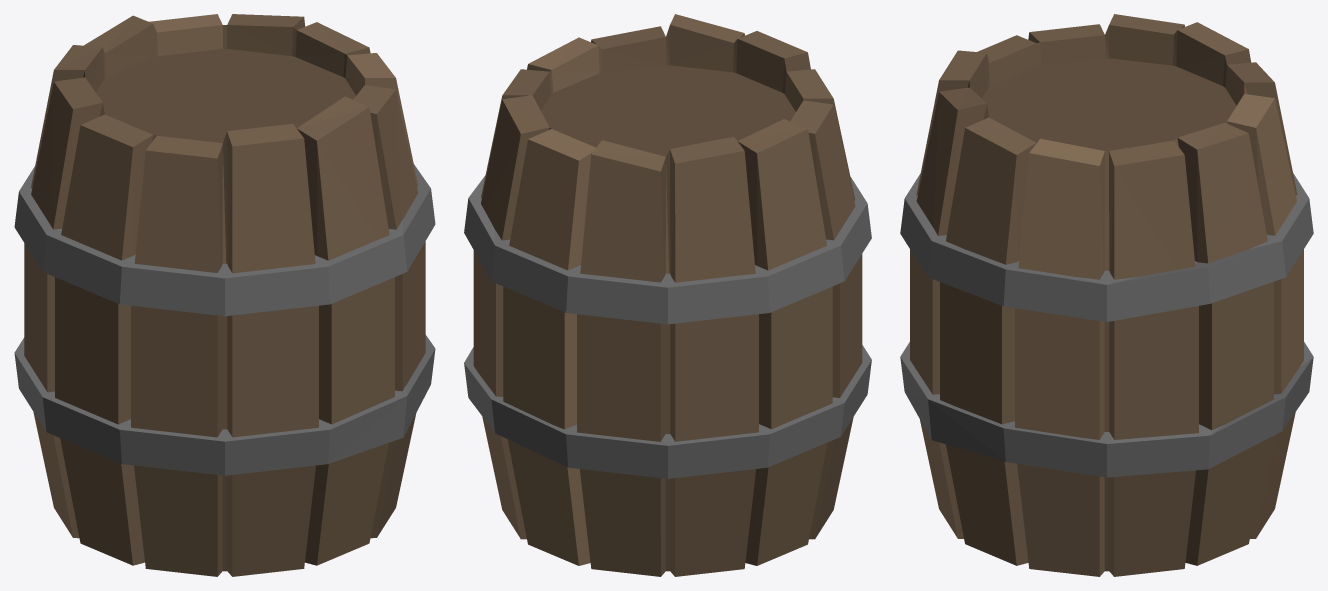
Rendered from barrel.fbx.
3 renders of one model, left to right at view 1: azimuth 30°, elevation 25°; view 2: azimuth 150°, elevation 25°; view 3: azimuth 270°, elevation 25°, orthographic. The views are drawn at different scales.
Parts seen in each view (by area): view 1: Cylinder.001; view 2: Cylinder.001; view 3: Cylinder.001.
Boxes of the visible parts, x1,y1,x2,y2 form: Cylinder.001: (14, 14, 435, 576); Cylinder.001: (464, 14, 871, 576); Cylinder.001: (900, 14, 1313, 576).
Size of the model in its own units: 174 by 201 by 174.
